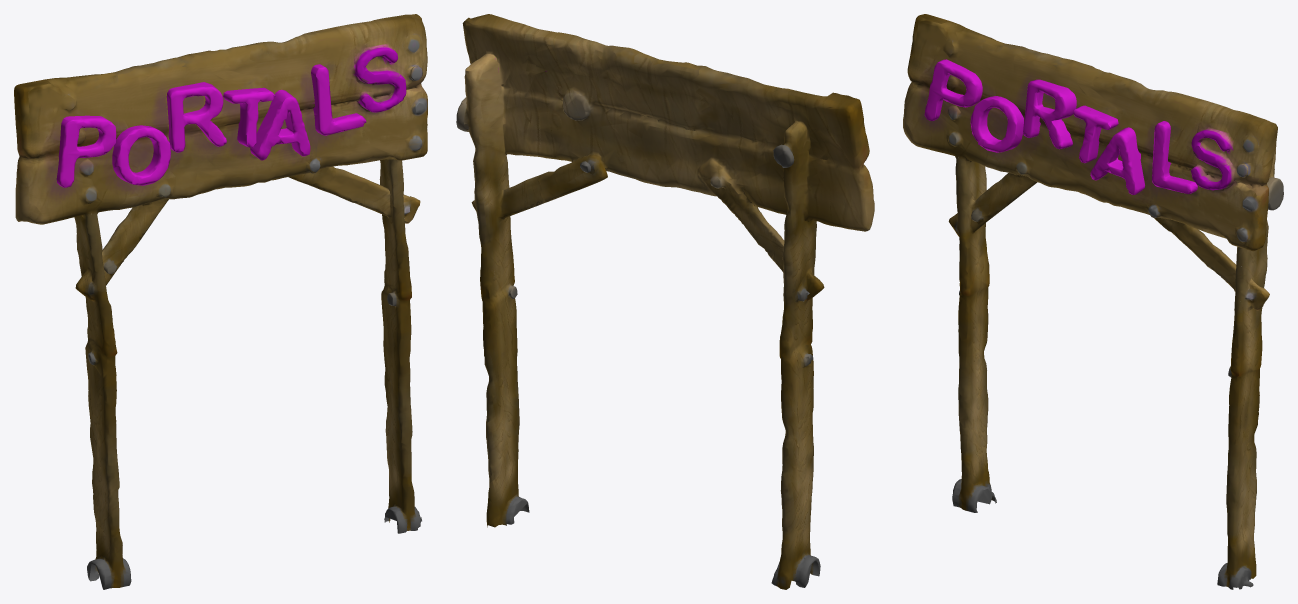
Rendered from portalssign3.fbx.
The picture shows the model from 3 angles, left to right: view 1: azimuth 30°, elevation 25°; view 2: azimuth 150°, elevation 25°; view 3: azimuth 330°, elevation 25°; orthographic projection. The views are drawn at different scales.
Visible parts, largest first — view 1: group2; view 2: group2; view 3: group2.
Part boxes in pixels (x1=…): group2: x1=14, y1=14, x2=427, y2=589; group2: x1=456, y1=14, x2=874, y2=589; group2: x1=903, y1=14, x2=1283, y2=589.
Bounding box in the file's own units: 83.62 × 102 × 16.68.
